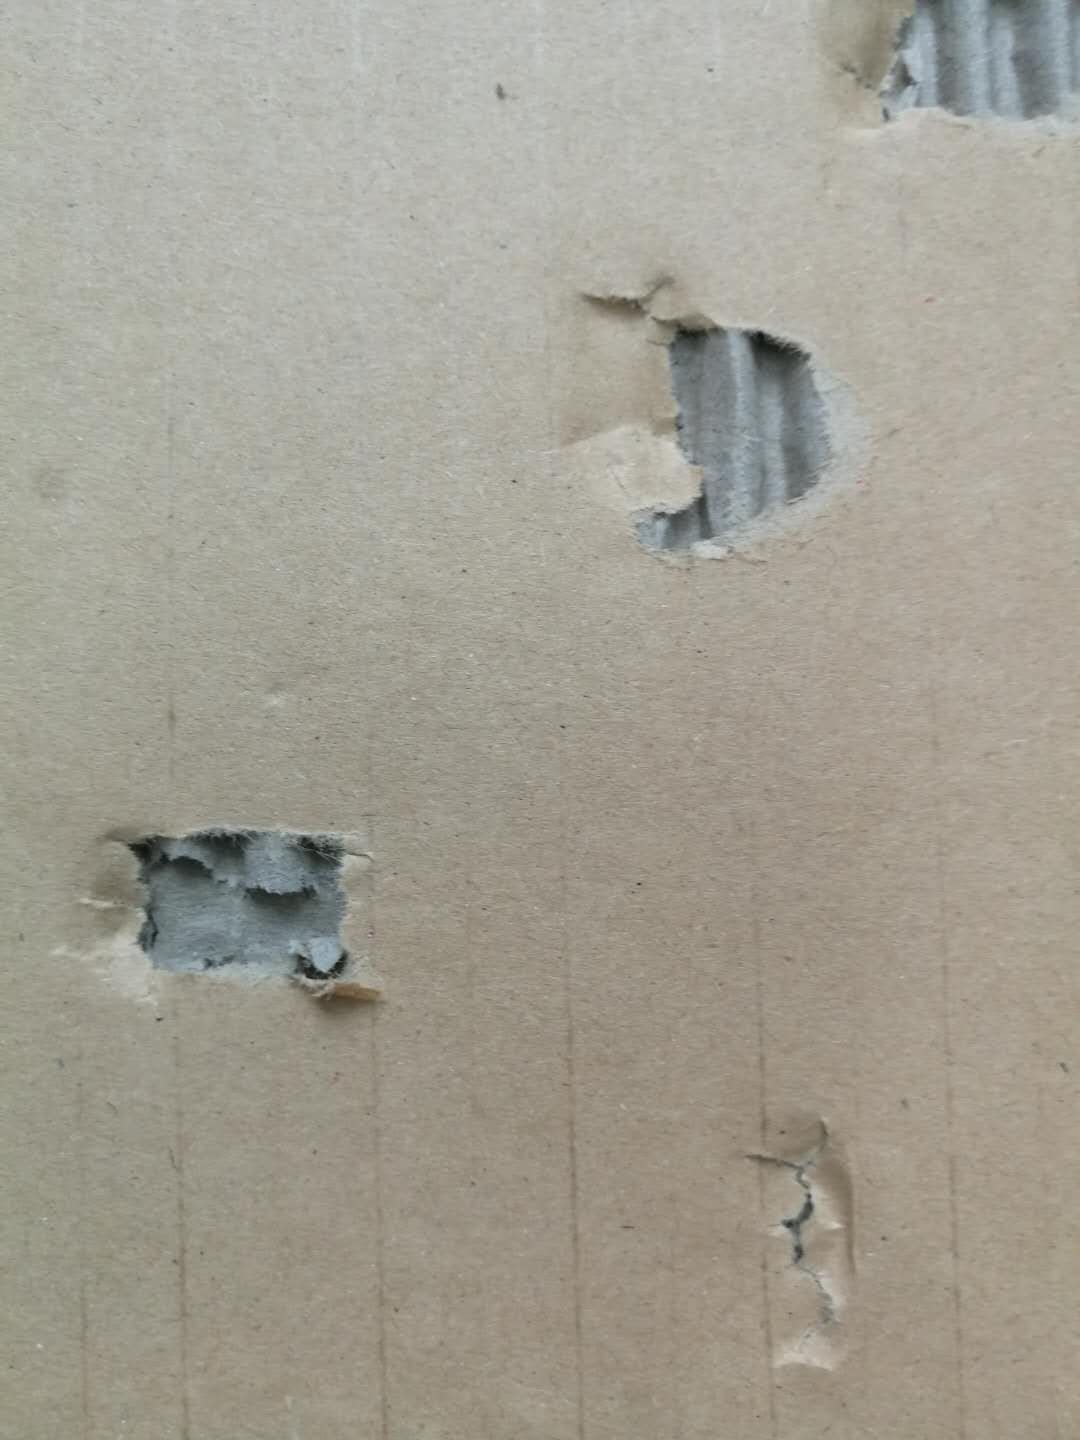defect: (532, 230, 897, 588), (32, 798, 419, 1035), (711, 1090, 903, 1415), (811, 1, 1079, 166)
